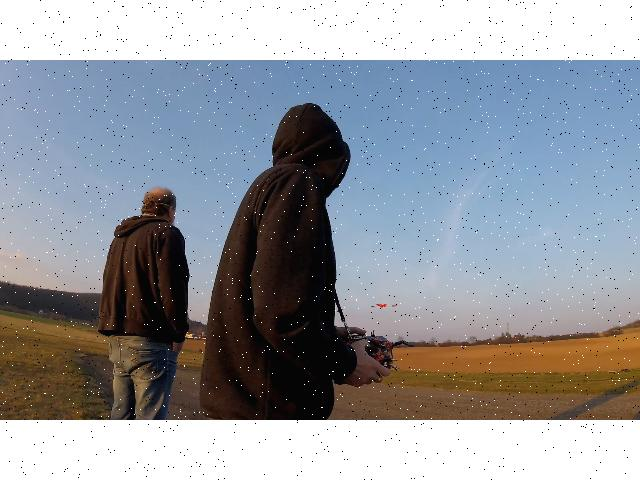Anti-Drone: (371, 304, 397, 308)
